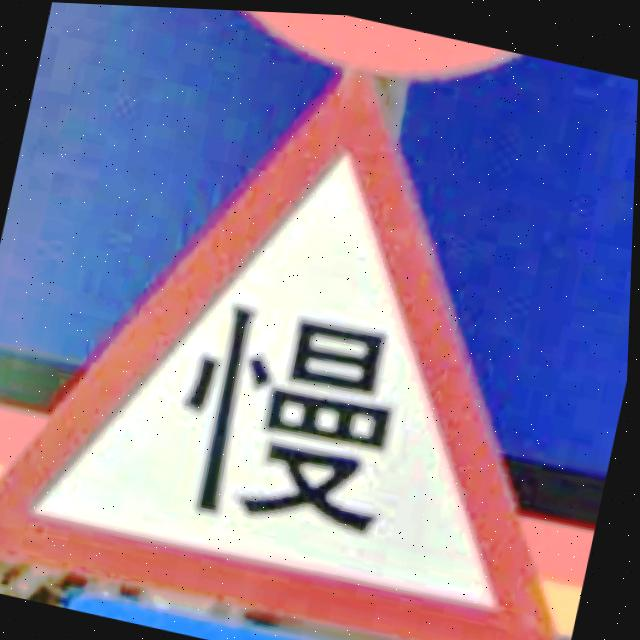slow: (0, 68, 563, 640)
